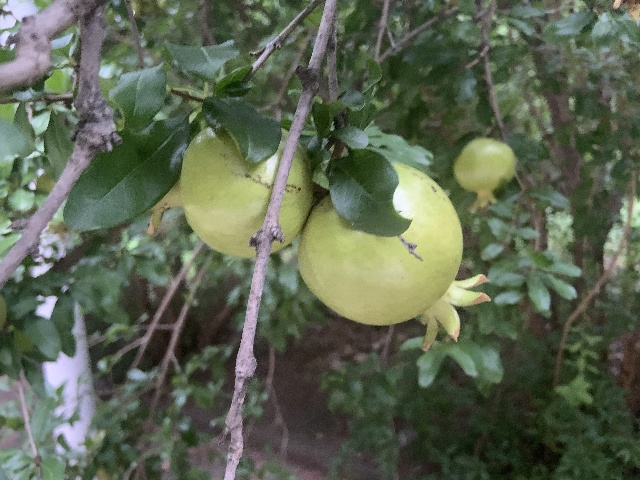mid-growth: (297, 160, 490, 354), (146, 125, 313, 257), (452, 137, 516, 210)
